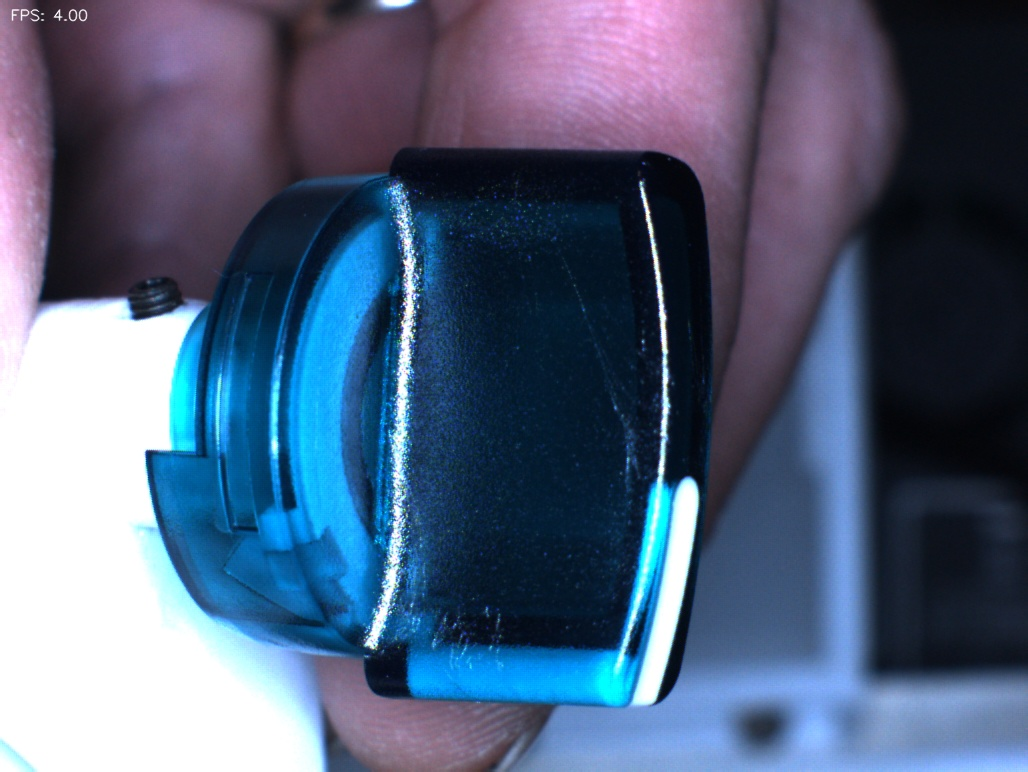Givrage: (422, 596, 518, 677)
